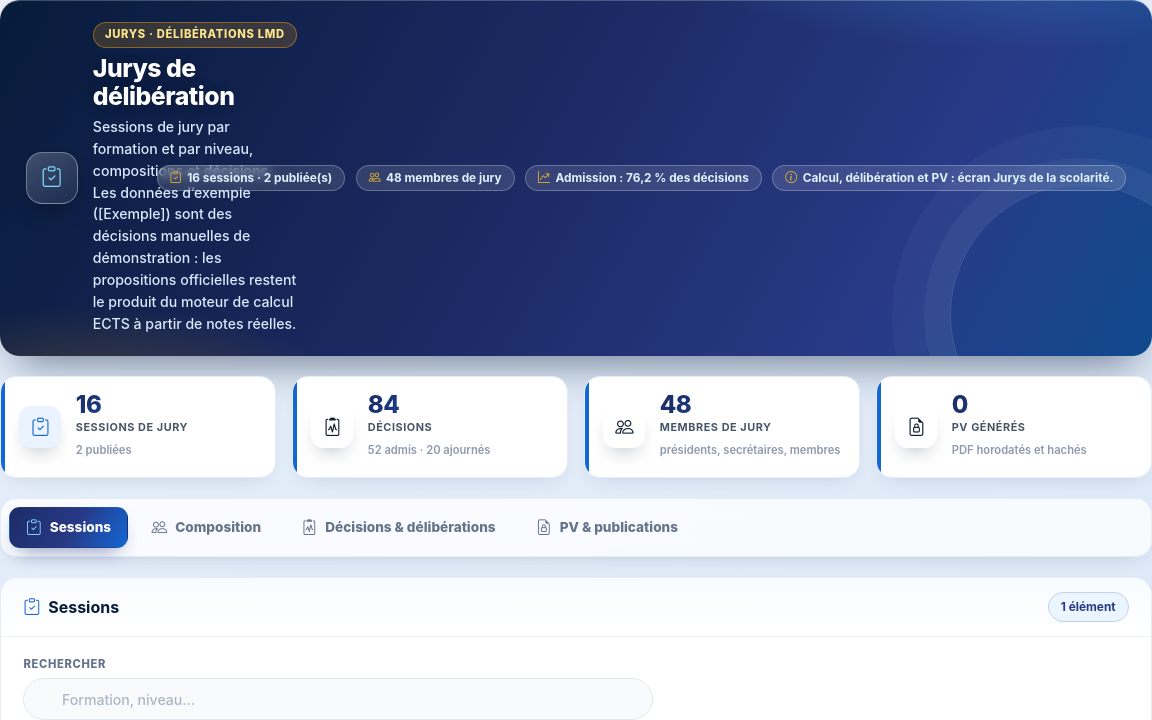
Test: Hub Jurys premium › affiche les décisions avec moyenne et lien étudiant
What coordinates should you click on to do the following:
click the tab "Décisions & délibérations"
I would click on:
 (398, 527)
Its box is [284,507,512,548].
(page scrolled)
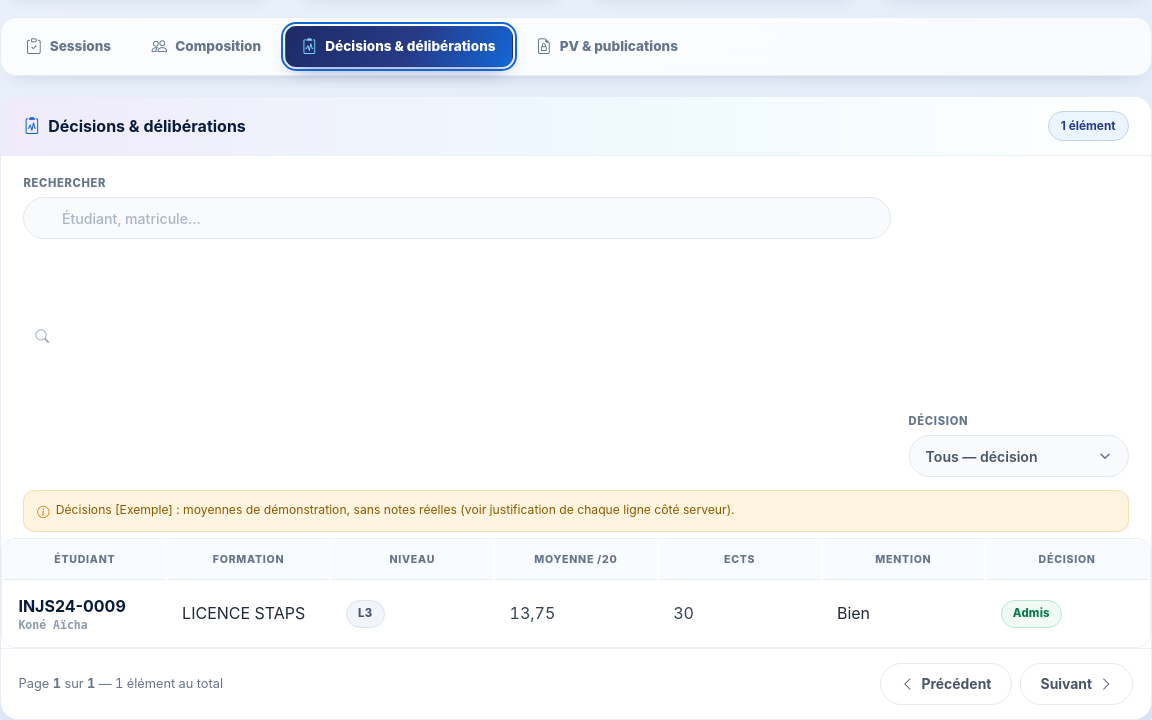
expect the text "13,75" is shown: met, box [510,603,555,623]
